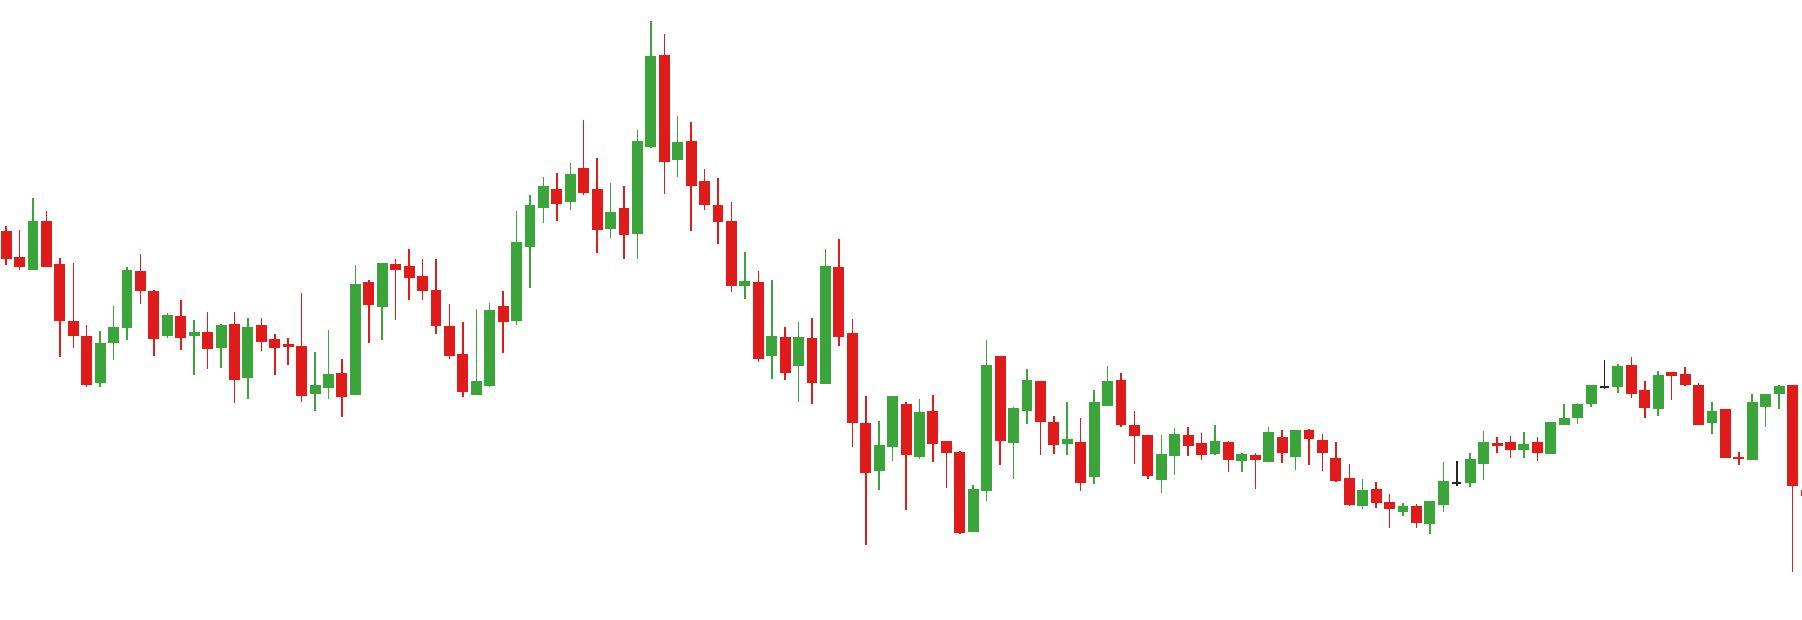buy: (900, 421, 980, 542)
sell: (575, 17, 673, 202)
